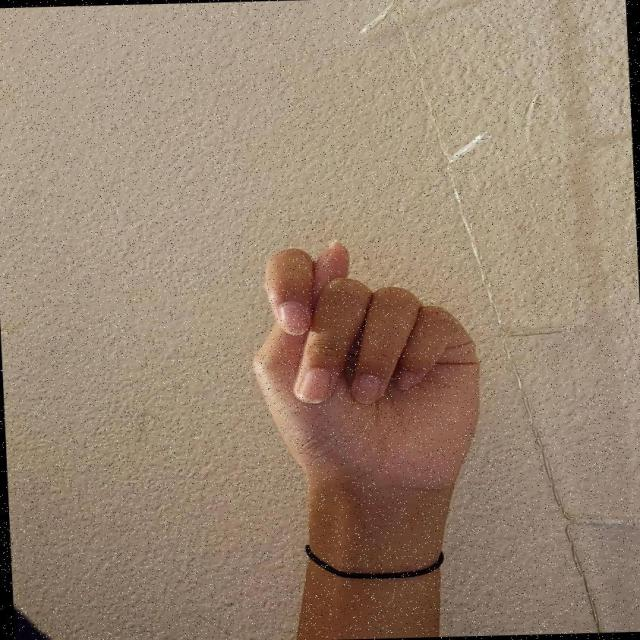T: (240, 232, 489, 505)
